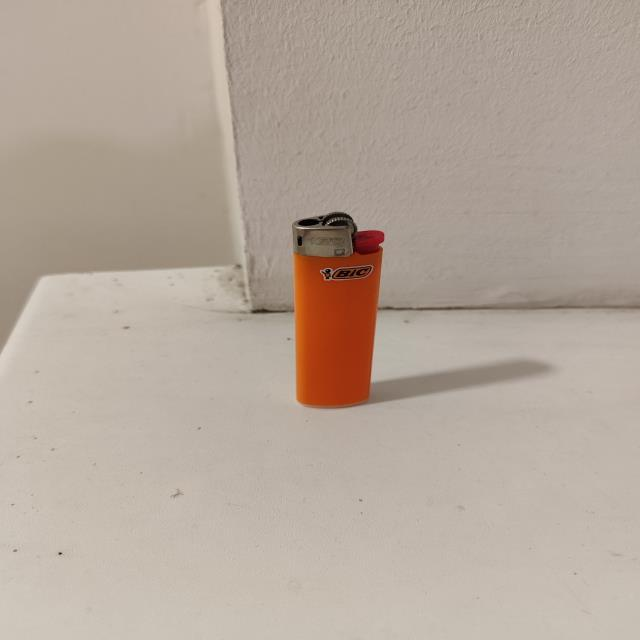lighter: (293, 212, 384, 407)
